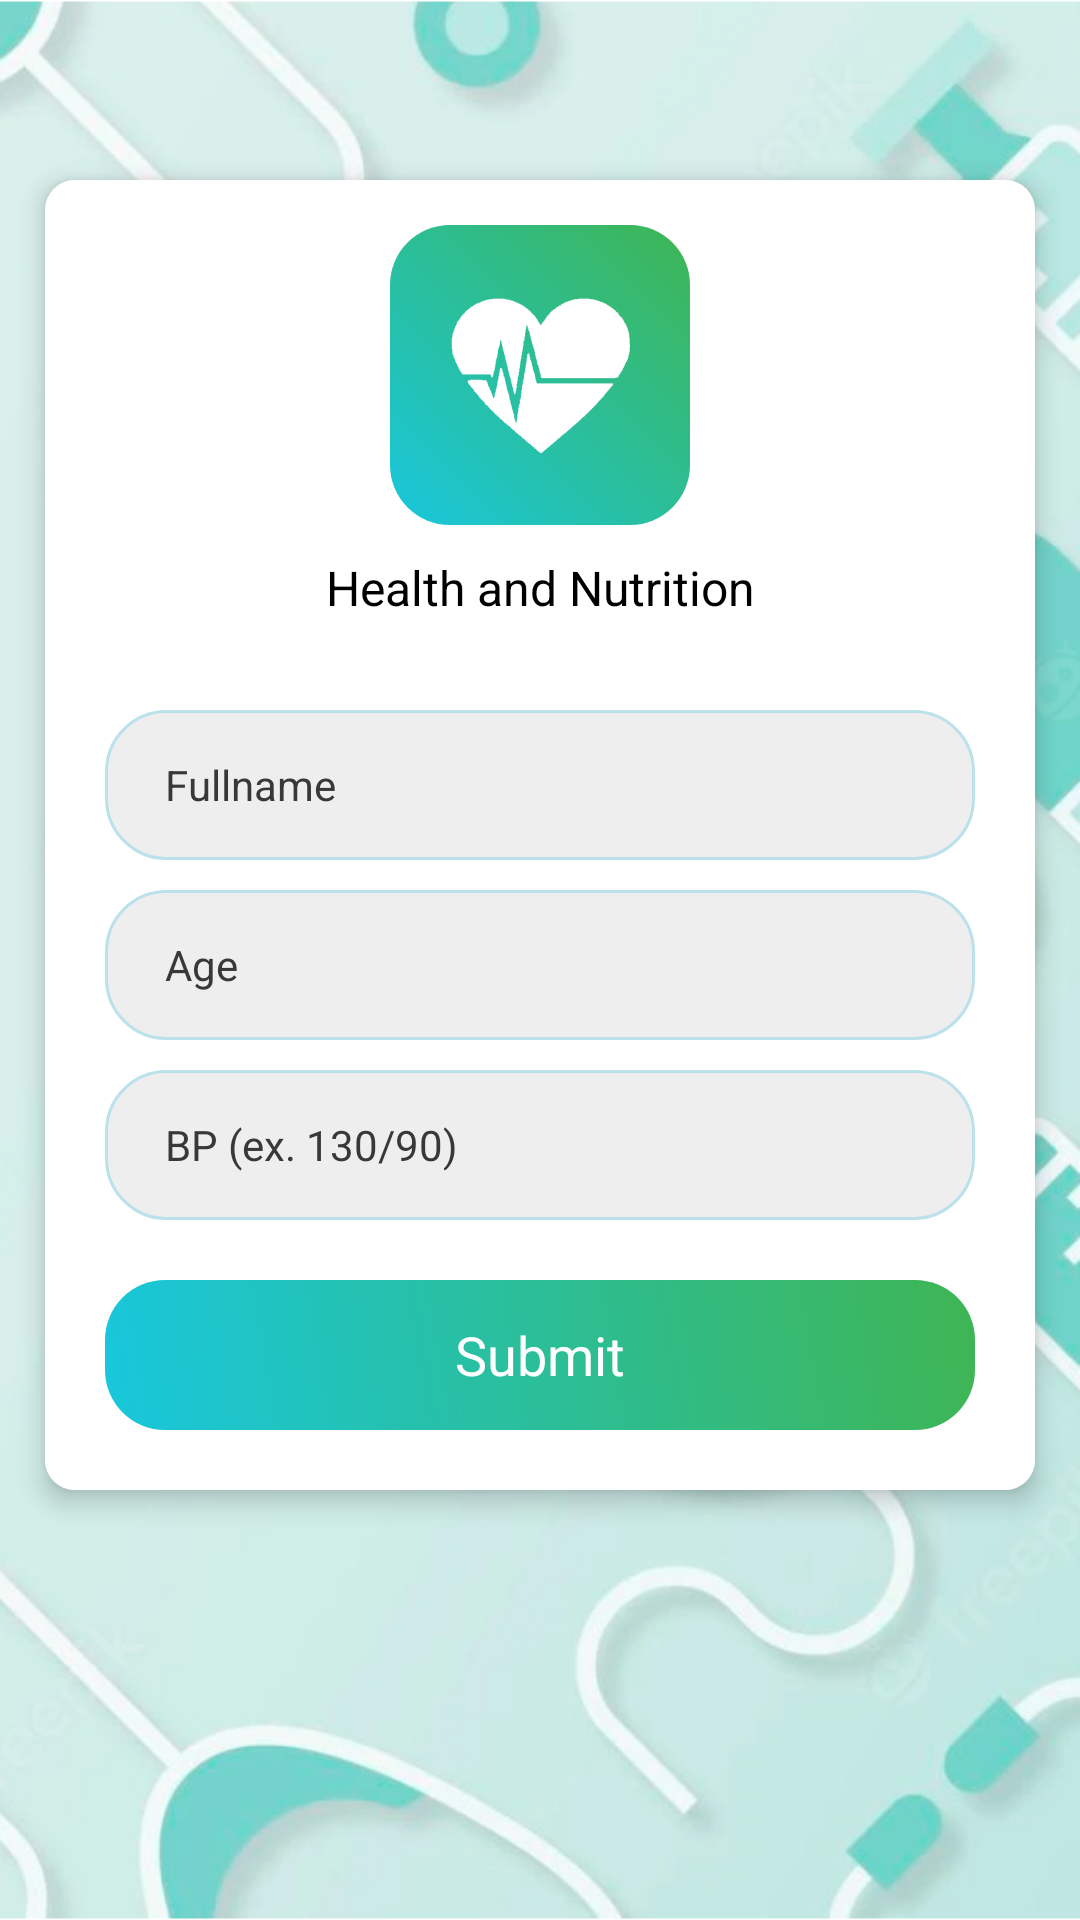

Point at icon controls on the screen. Image size 1080×1920, points as point (x, y).
heart: point (540, 375)
